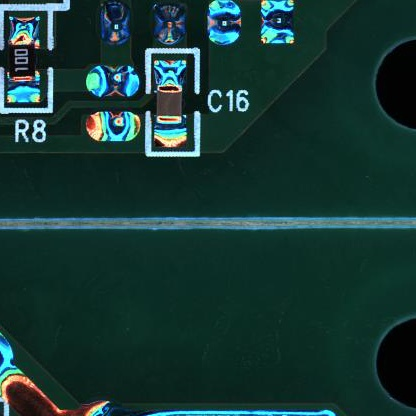spot: (85, 62, 144, 102), (80, 108, 142, 141), (259, 1, 300, 47), (205, 1, 240, 50), (96, 1, 131, 49), (151, 1, 187, 47)
